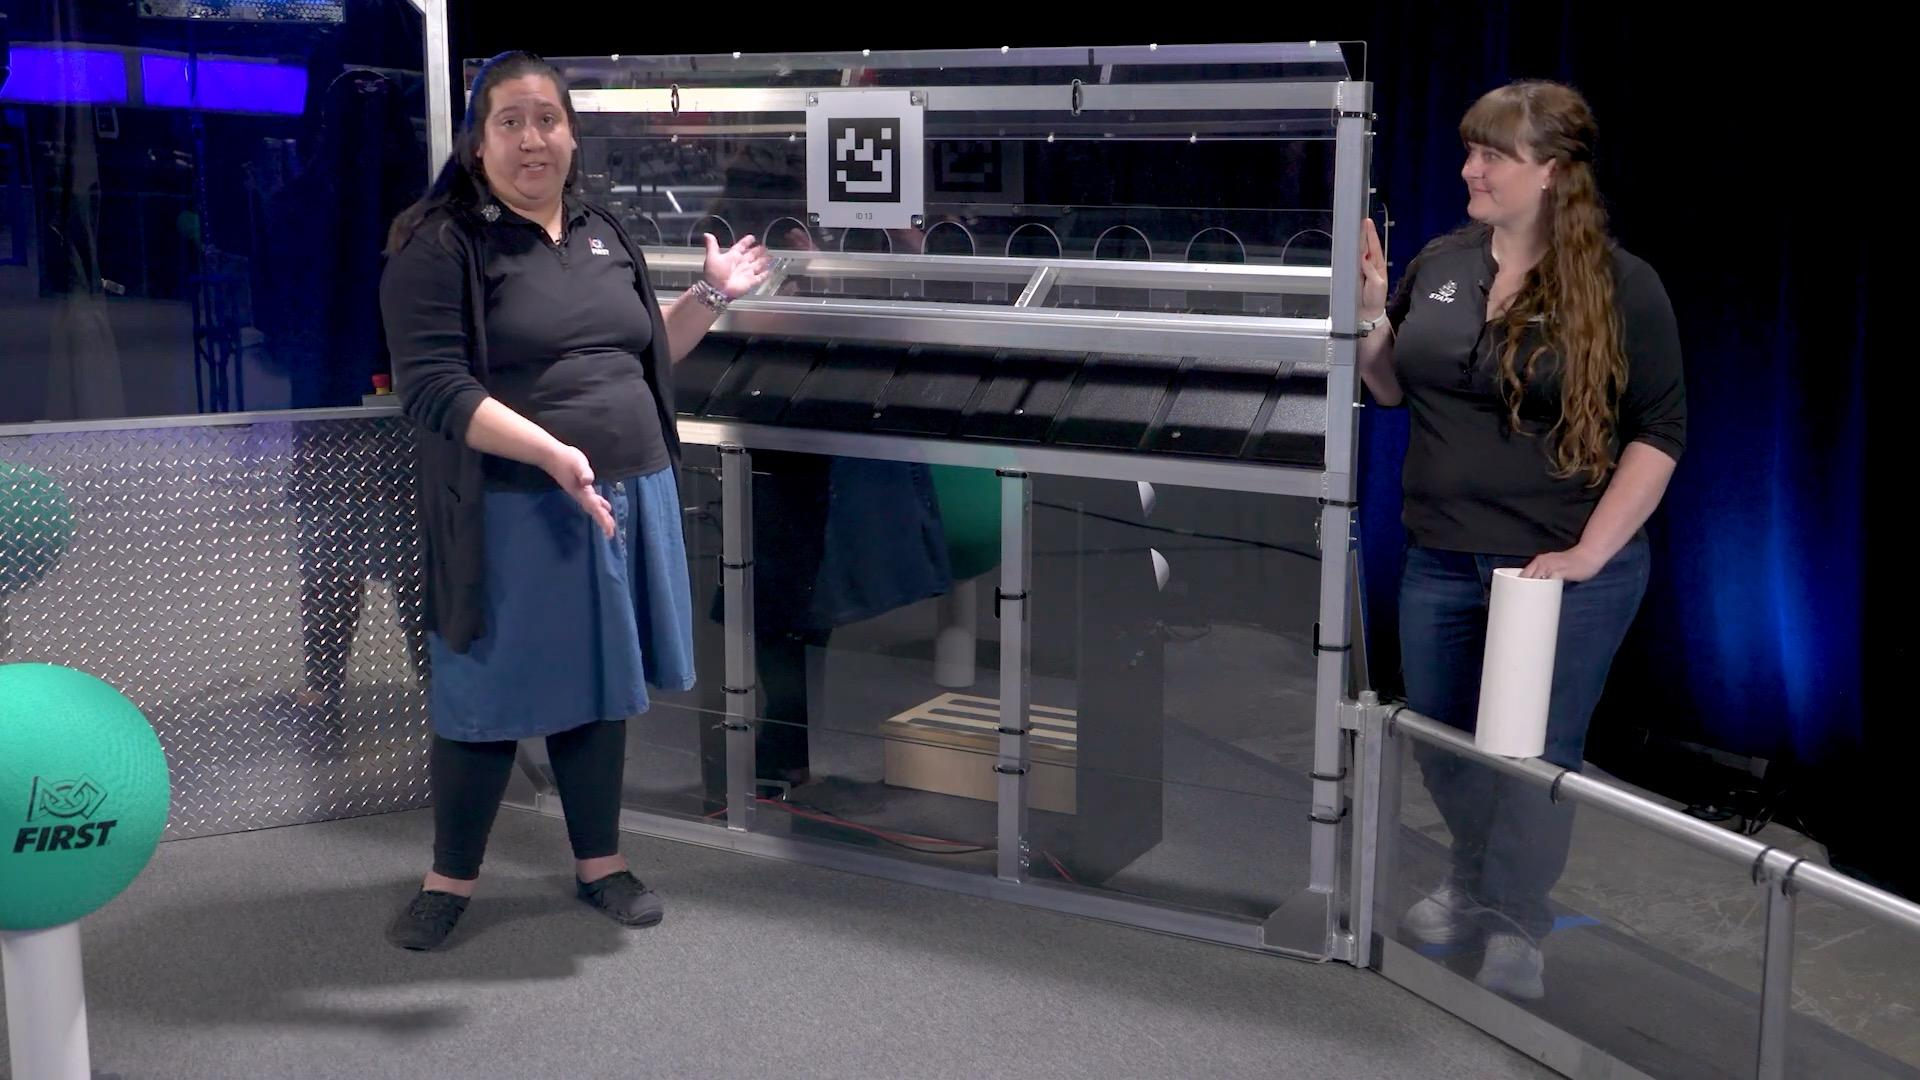ALGAE: (0, 663, 171, 934)
CORAL: (1474, 567, 1564, 760), (0, 922, 91, 1080)
